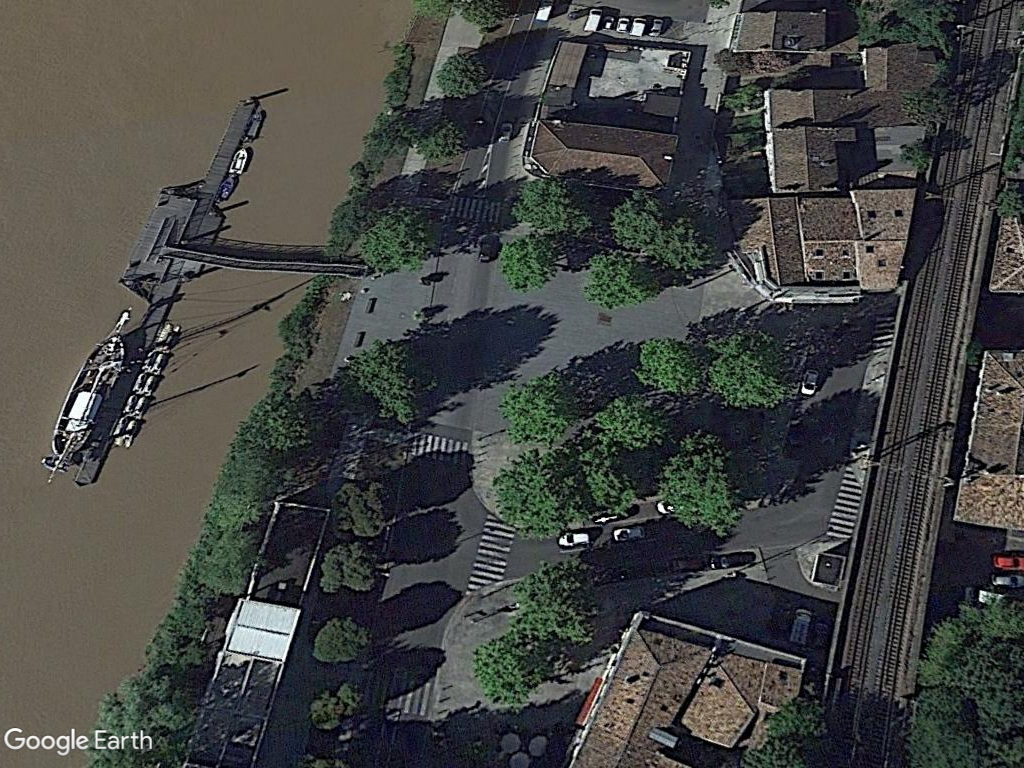boat: (47, 319, 127, 477)
